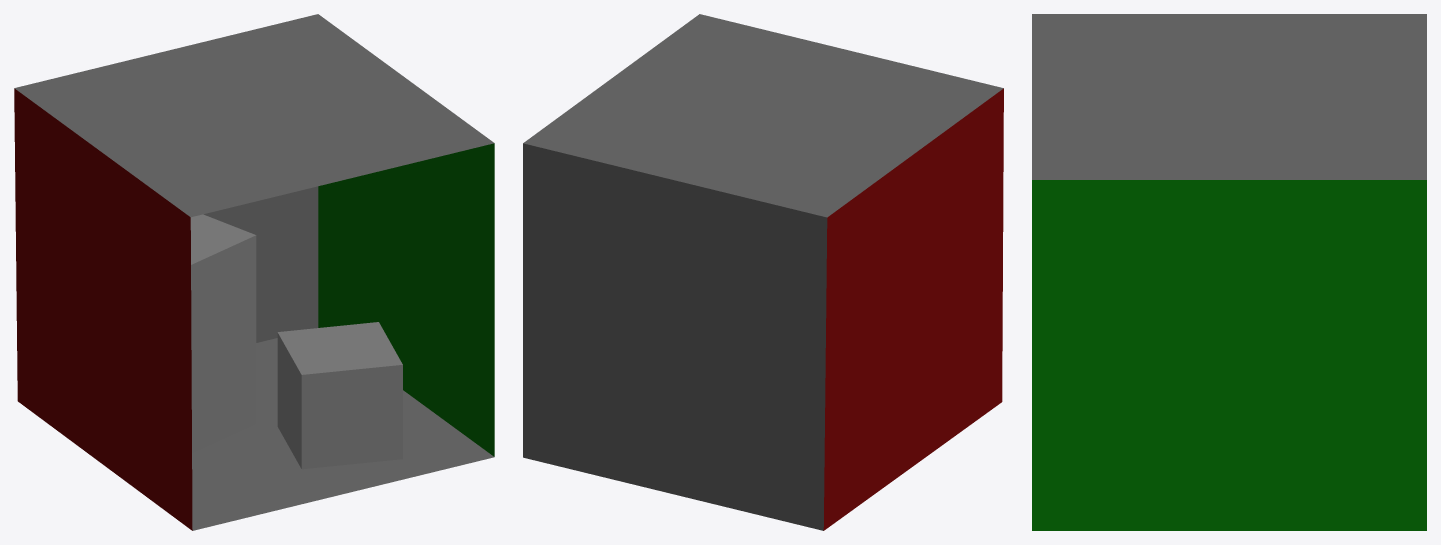
The model's file is cornell_box.obj.
3 renders of one model, left to right at view 1: azimuth 30°, elevation 25°; view 2: azimuth 150°, elevation 25°; view 3: azimuth 270°, elevation 25°, orthographic. The views are drawn at different scales.
Visible parts, largest first — view 1: cornell_box; view 2: cornell_box; view 3: cornell_box.
Part boxes in pixels (x1,y1,x2,y2): cornell_box: (14, 14, 494, 530); cornell_box: (523, 14, 1003, 530); cornell_box: (1032, 14, 1426, 530).
Bounding box in the file's own units: 55.6 × 54.88 × 55.92.
